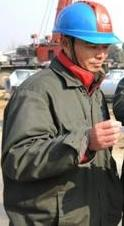hard-hat: (52, 0, 122, 45)
vest: (0, 50, 124, 226)
